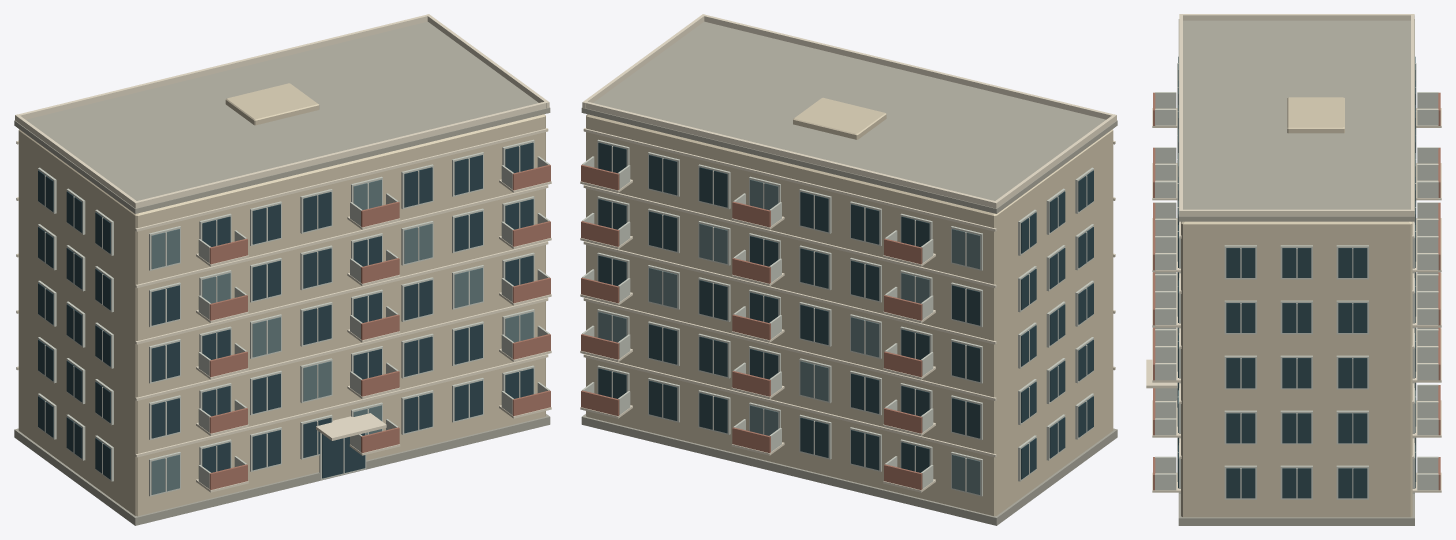
The model's file is apartment-block.glb.
3 renders of one model, left to right at view 1: azimuth 30°, elevation 25°; view 2: azimuth 150°, elevation 25°; view 3: azimuth 270°, elevation 25°, orthographic. The views are drawn at different scales.
Visible parts, largest first — view 1: block-shell; view 2: block-shell; view 3: block-shell.
Part boxes in pixels (<box>): block-shell: <box>14,14,551,525</box>; block-shell: <box>580,14,1117,525</box>; block-shell: <box>1146,14,1441,525</box>.
Size of the model in its own units: 24.39 by 18 by 15.3.
